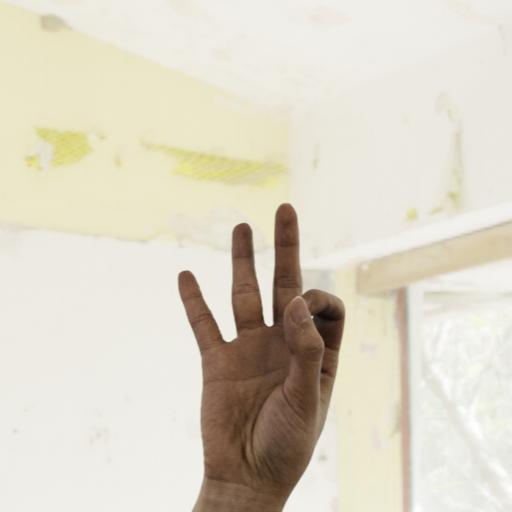F: (141, 171, 387, 512)
